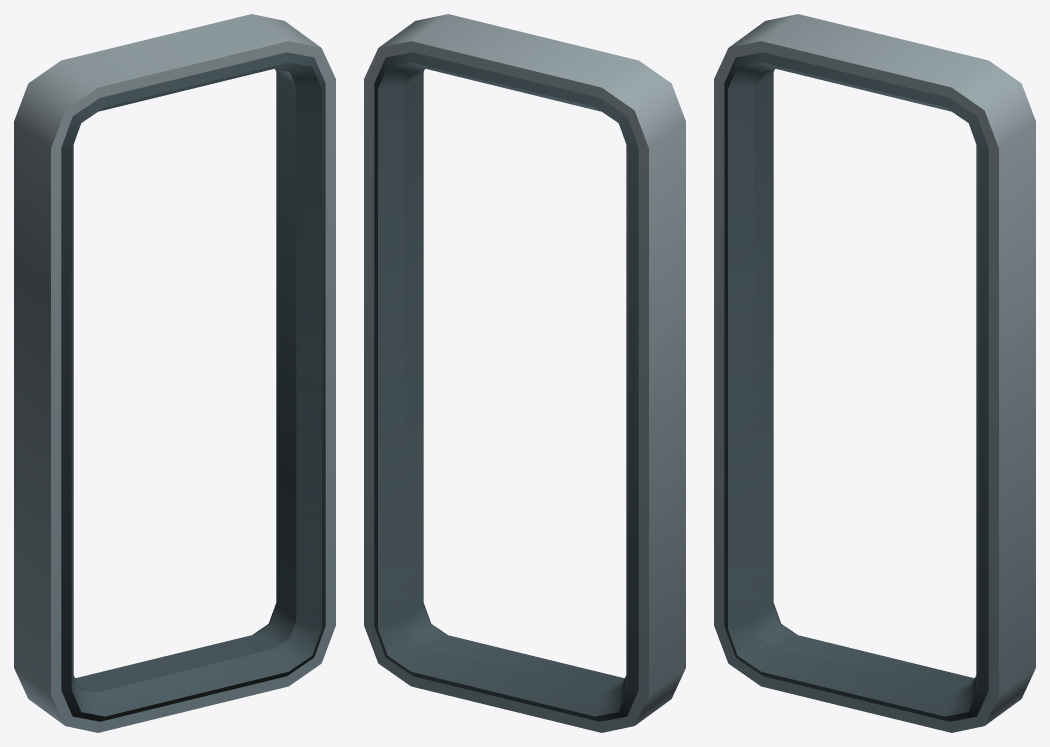
File: Door_001.fbx
3 renders of one model, left to right at view 1: azimuth 30°, elevation 25°; view 2: azimuth 150°, elevation 25°; view 3: azimuth 330°, elevation 25°, orthographic.
Parts seen in each view (by area): view 1: Door_001; view 2: Door_001; view 3: Door_001.
Part boxes in pixels (<box>): Door_001: <box>14,14,335,732</box>; Door_001: <box>364,14,685,732</box>; Door_001: <box>714,14,1035,732</box>.
Bounding box in the file's own units: 127 × 33.81 × 276.
